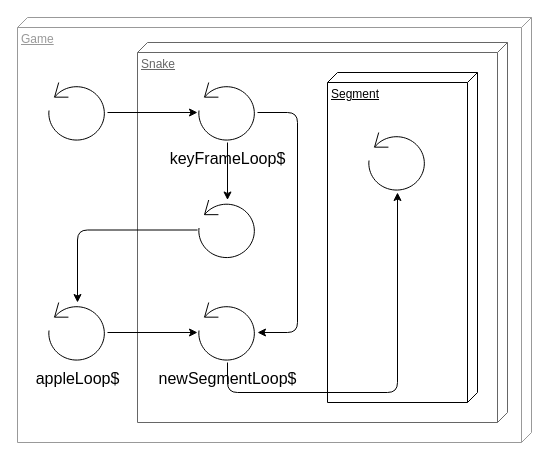
The diagram is 549 pixels wide and 460 high, and some of its shapes have lost their labels. The box of each missing label's shape, as (x1, y1, x2, y2) in pixels:
loop$: (46, 82, 108, 142)
position$: (196, 199, 258, 260)
segmentLoop$: (366, 132, 428, 192)
